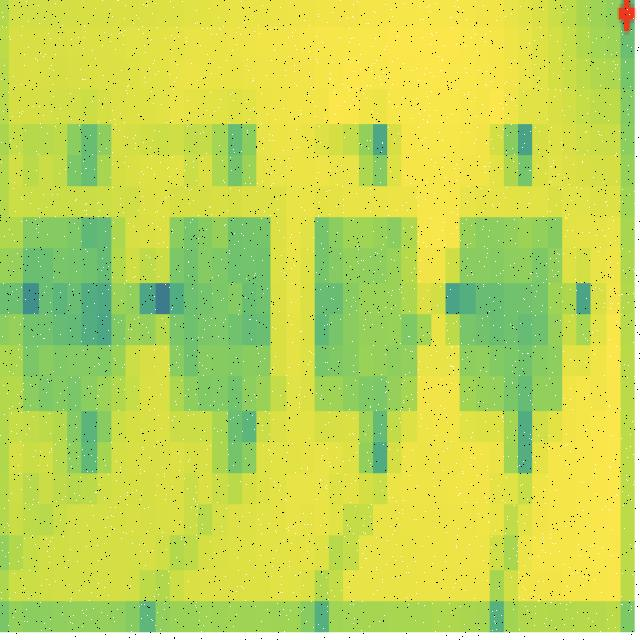Concrete: (12, 154, 144, 540)
Glass: (436, 147, 580, 518)
Metal: (156, 151, 284, 511)
Wood: (309, 164, 431, 506)
